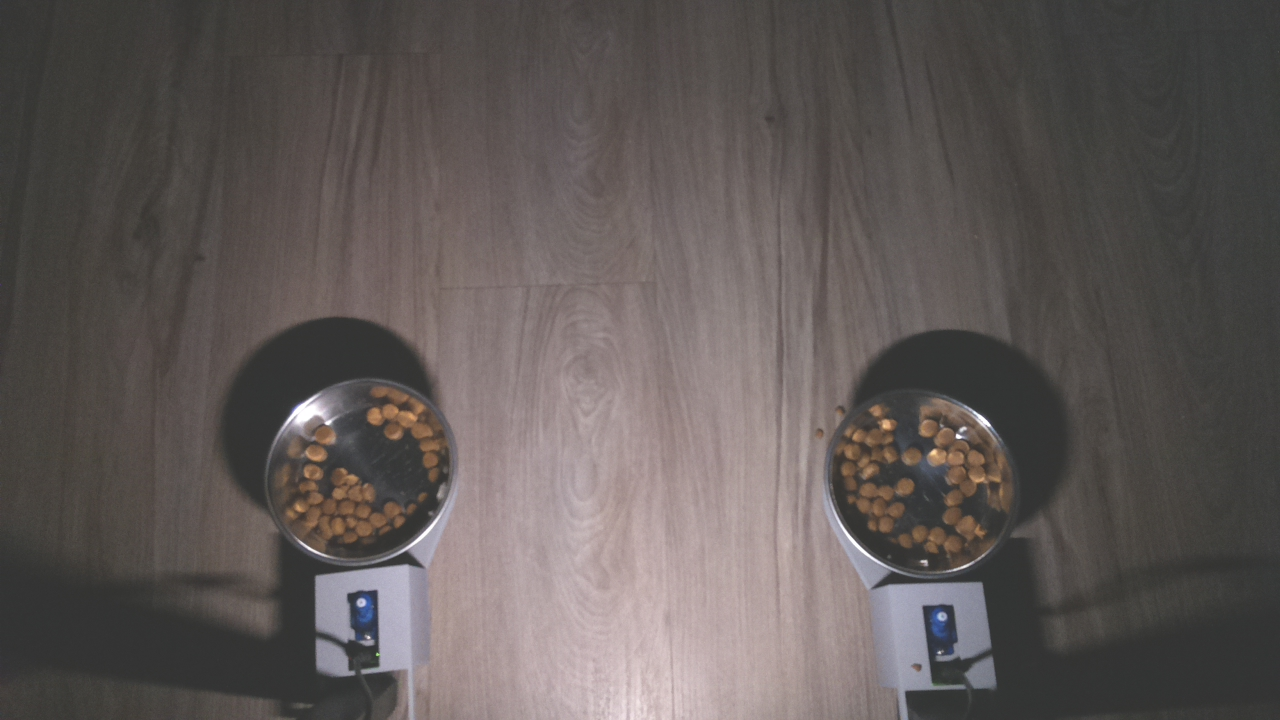open_bowl: (821, 383, 1025, 584), (259, 371, 463, 568)
